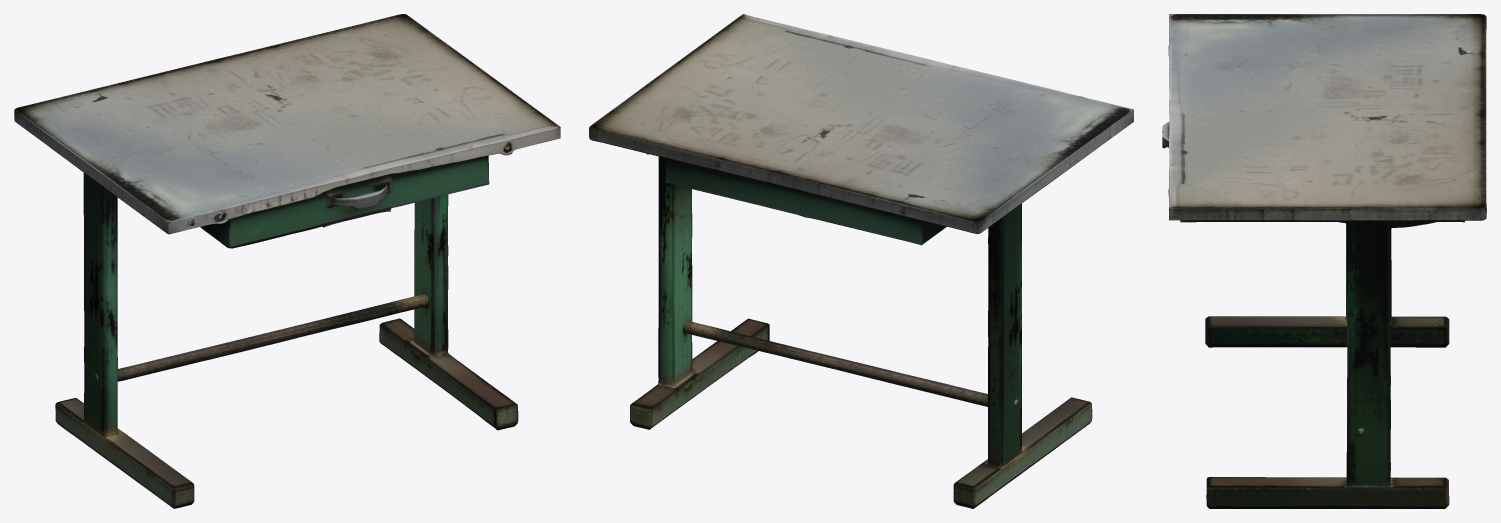
The picture shows the model from 3 angles, left to right: view 1: azimuth 30°, elevation 25°; view 2: azimuth 150°, elevation 25°; view 3: azimuth 270°, elevation 25°; orthographic projection. The views are drawn at different scales.
Visible parts, largest first — view 1: world; view 2: world; view 3: world.
Boxes of the visible parts, x1,y1,x2,y2 form: world: (14, 14, 560, 508); world: (589, 14, 1133, 508); world: (1162, 14, 1486, 508).
Size of the model in its own units: 1 by 0.7502 by 0.704.
Materials: 1 (1 with a texture image).
